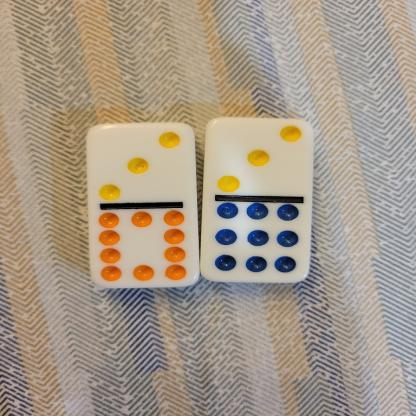pip-10: (87, 207, 199, 287)
pip-3: (85, 122, 197, 206), (205, 118, 314, 199)
pip-9: (200, 200, 310, 282)
